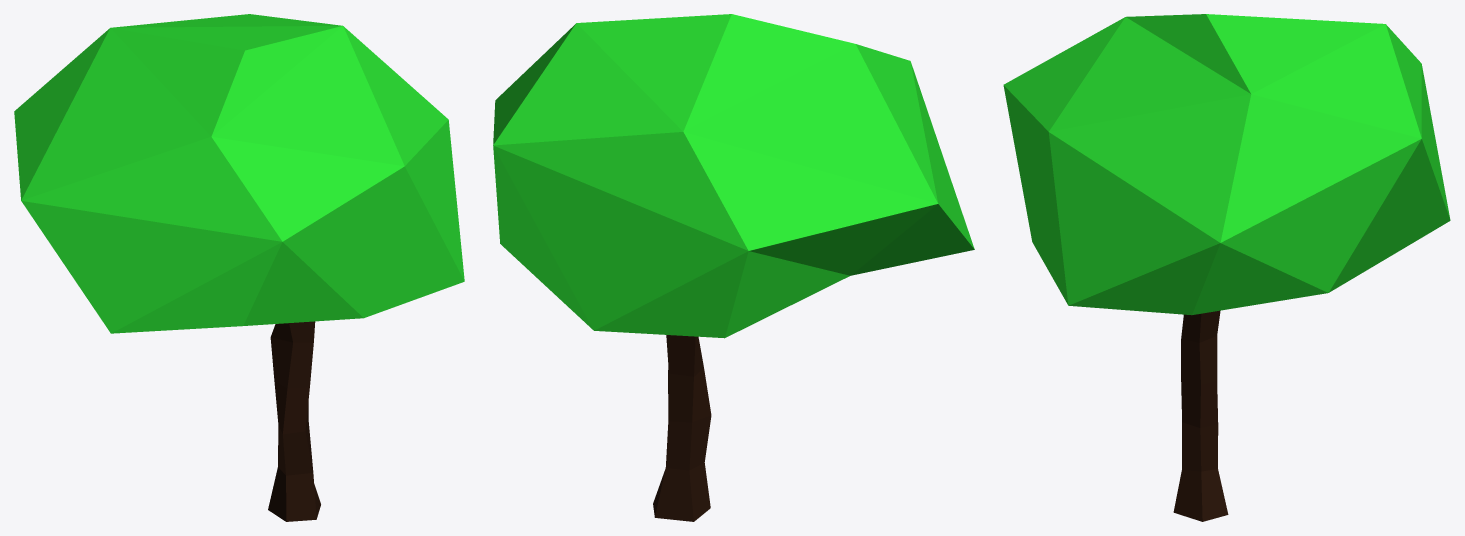
File: Tree002.FBX
3 views of the same model, side by side, from view 1: azimuth 30°, elevation 25°; view 2: azimuth 150°, elevation 25°; view 3: azimuth 270°, elevation 25° (orthographic). The views are drawn at different scales.
Parts seen in each view (by area): view 1: GeoSphere001, Cylinder001; view 2: GeoSphere001, Cylinder001; view 3: GeoSphere001, Cylinder001.
Boxes of the visible parts, box(x1,y1,x2,y2) form: GeoSphere001: box(14, 14, 464, 333); Cylinder001: box(268, 321, 320, 521); GeoSphere001: box(493, 14, 974, 338); Cylinder001: box(653, 335, 711, 521); GeoSphere001: box(1003, 14, 1450, 315); Cylinder001: box(1173, 310, 1228, 521).
Bounding box in the file's own units: 45.47 × 48.94 × 42.05.
